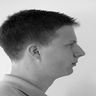ear: (25, 41, 47, 66)
